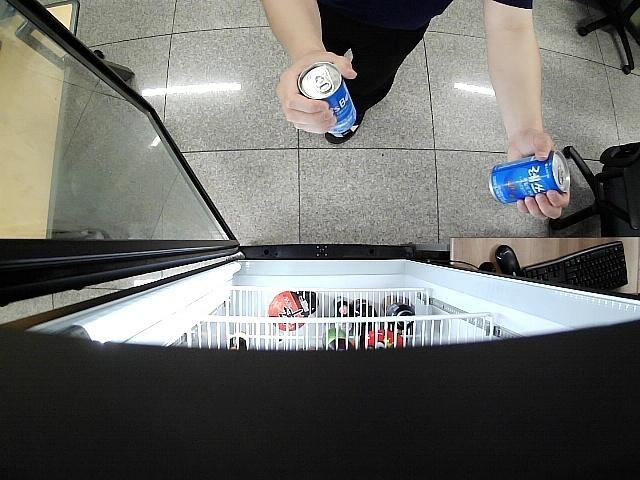15_letsbe: (486, 152, 568, 206), (296, 61, 356, 134)
